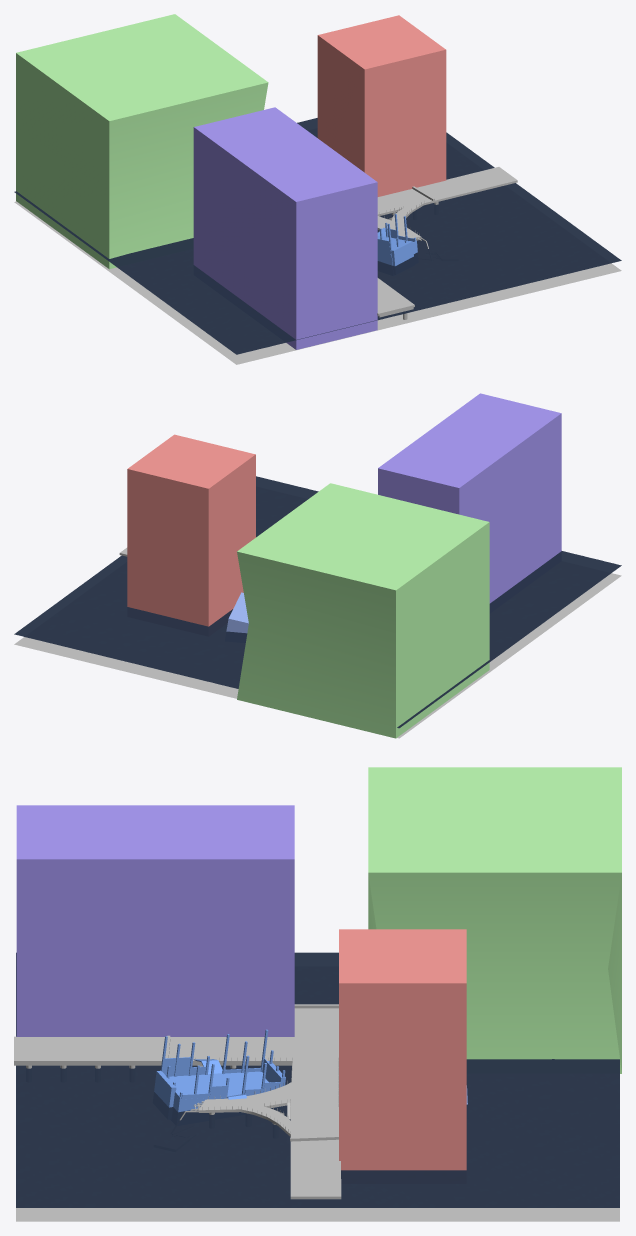
The model's file is EislatoNormalBattleBackground.fbx.
3 views of the same model, one above another, from view 1: azimuth 30°, elevation 25°; view 2: azimuth 150°, elevation 25°; view 3: azimuth 270°, elevation 25° (orthographic). The views are drawn at different scales.
Parts seen in each view (by area): view 1: pCube13, pCube12, suimen2, pCube17, jimen, pCube2, pCube6; view 2: pCube13, pCube12, suimen2, pCube17, jimen, pCube8; view 3: pCube12, suimen2, pCube13, pCube17, pCube2, jimen, pCube6, pCube14, pCube7.
Boxes of the visible parts, box(x1,y1,x2,y2) form: pCube13: box(16, 14, 268, 269); pCube12: box(193, 107, 377, 349); suimen2: box(14, 118, 621, 354); pCube17: box(317, 15, 446, 196); jimen: box(14, 201, 621, 364); pCube2: box(377, 167, 517, 236); pCube6: box(377, 278, 414, 315); pCube13: box(237, 483, 489, 738); pCube12: box(378, 393, 561, 603); suimen2: box(14, 476, 621, 728); pCube17: box(127, 434, 255, 626); jimen: box(14, 573, 621, 738); pCube8: box(226, 592, 248, 633); pCube12: box(16, 805, 294, 1036); suimen2: box(16, 952, 619, 1207); pCube13: box(368, 767, 621, 1073); pCube17: box(339, 929, 466, 1170); pCube2: box(208, 1008, 341, 1199); jimen: box(16, 1208, 619, 1221); pCube6: box(14, 1036, 338, 1063); pCube14: box(169, 1071, 268, 1112); pCube7: box(14, 1063, 291, 1065).
Bounding box in the file's own units: 20000 × 8566 × 20126.
